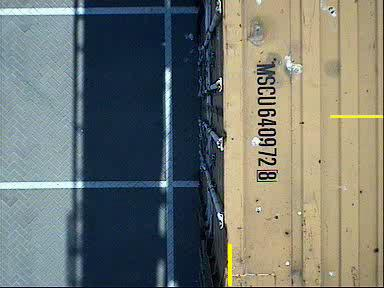groundmarker_2: (144, 178, 202, 212), (143, 28, 201, 62)
